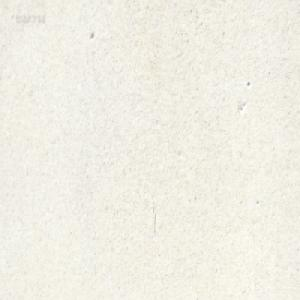Wrench: (159, 0, 165, 4)
